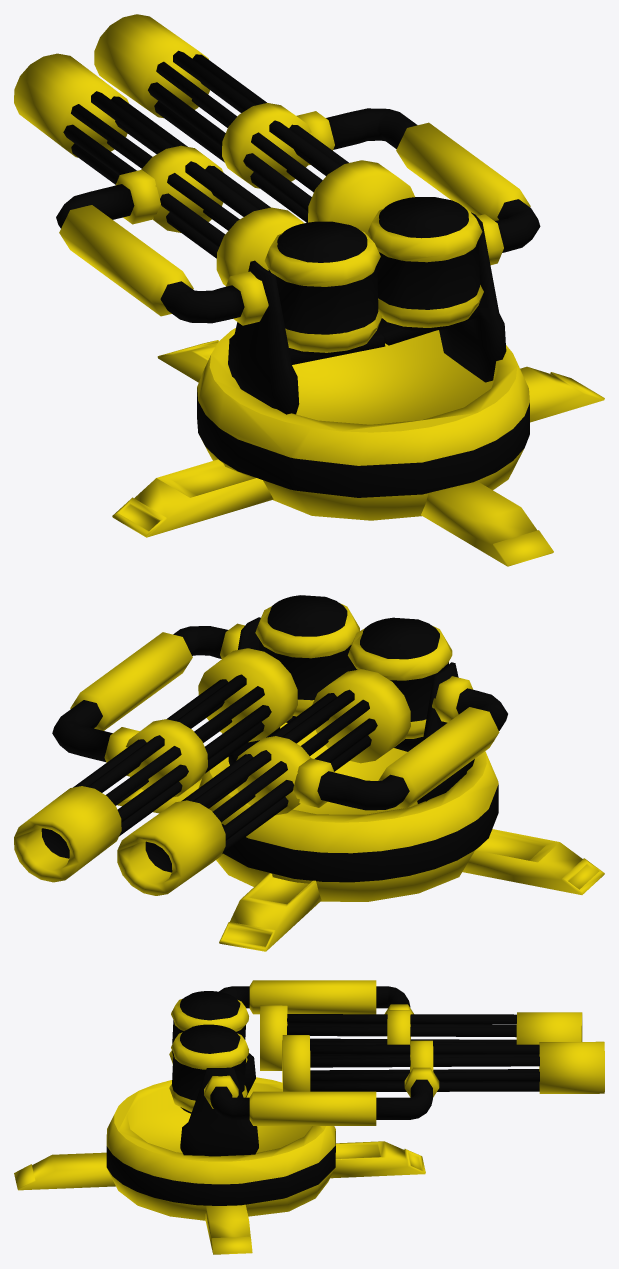
Rendered from BrokenTurret.fbx.
3 renders of one model, top to bottom at view 1: azimuth 30°, elevation 25°; view 2: azimuth 150°, elevation 25°; view 3: azimuth 270°, elevation 25°, orthographic. The views are drawn at different scales.
Parts seen in each view (by area): view 1: Turret, TurretHead.001, TurretHead, TurretHead.003, TurretHead.006, TurretHead.007, TurretHead.004, TurretHead.002, TurretHead.005; view 2: Turret, TurretHead.001, TurretHead.003, TurretHead, TurretHead.006, TurretHead.002, TurretHead.007, TurretHead.004, TurretHead.005; view 3: Turret, TurretHead.001, TurretHead, TurretHead.003, TurretHead.006, TurretHead.005, TurretHead.007, TurretHead.002.
Part boxes in pixels (x1=…): Turret: x1=112, y1=328, x2=604, y2=566; TurretHead.001: x1=94, y1=14, x2=417, y2=234; TurretHead: x1=59, y1=122, x2=540, y2=325; TurretHead.003: x1=56, y1=91, x2=304, y2=285; TurretHead.006: x1=367, y1=197, x2=483, y2=330; TurretHead.007: x1=264, y1=221, x2=382, y2=355; TurretHead.004: x1=228, y1=260, x2=385, y2=414; TurretHead.002: x1=14, y1=53, x2=128, y2=157; TurretHead.005: x1=377, y1=212, x2=506, y2=382; Turret: x1=117, y1=722, x2=604, y2=951; TurretHead.001: x1=14, y1=648, x2=297, y2=882; TurretHead.003: x1=181, y1=669, x2=410, y2=853; TurretHead: x1=70, y1=623, x2=507, y2=822; TurretHead.006: x1=255, y1=595, x2=359, y2=717; TurretHead.002: x1=117, y1=800, x2=225, y2=895; TurretHead.007: x1=348, y1=617, x2=452, y2=741; TurretHead.004: x1=394, y1=662, x2=474, y2=803; TurretHead.005: x1=222, y1=617, x2=293, y2=764; Turret: x1=14, y1=1077, x2=425, y2=1254; TurretHead.001: x1=282, y1=1035, x2=604, y2=1119; TurretHead: x1=204, y1=980, x2=376, y2=1125; TurretHead.003: x1=260, y1=986, x2=516, y2=1070; TurretHead.006: x1=169, y1=1024, x2=248, y2=1113; TurretHead.005: x1=180, y1=1067, x2=258, y2=1156; TurretHead.007: x1=169, y1=991, x2=248, y2=1064; TurretHead.002: x1=516, y1=1012, x2=582, y2=1044.
Bounding box in the file's own units: 554 × 255 × 854.
